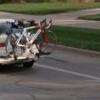Bicycle: (1, 14, 57, 64)
